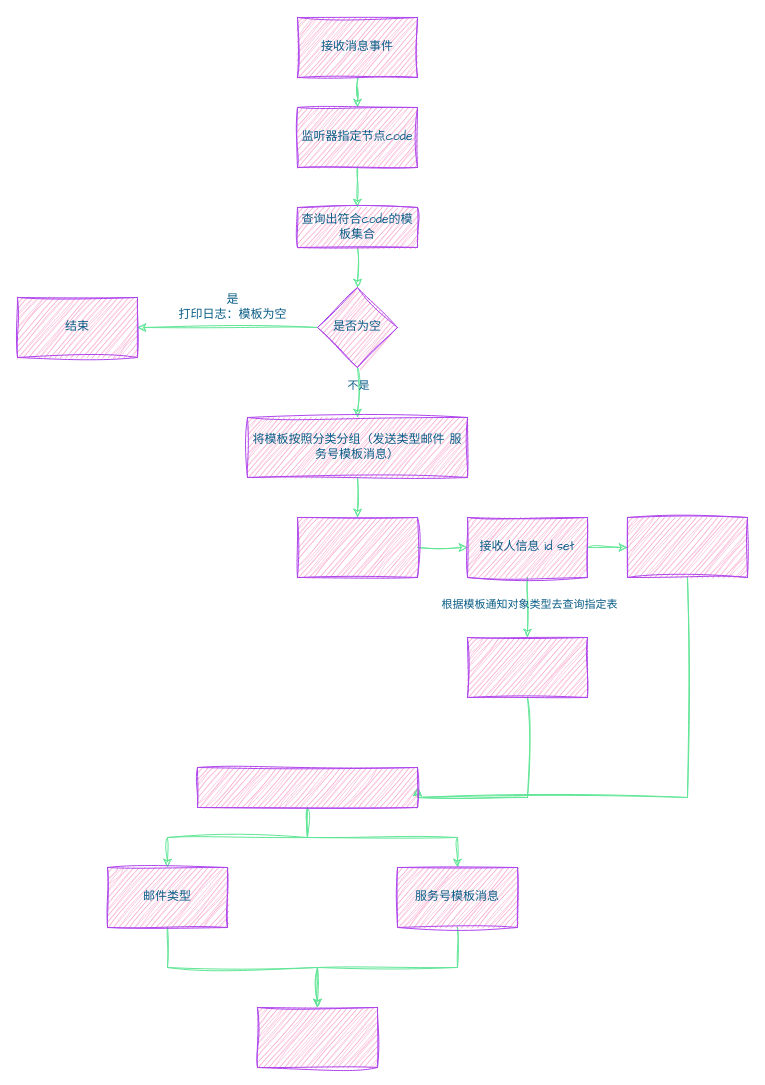
Image size: 765x1085. Some labels were removed from this diagram. The box of each missing label's shape, as (x1, y1, x2, y2) in pixels:
处理通用部分: (296, 516, 418, 578)
收集结果: (196, 766, 418, 808)
模板标题和模板内容解析: (626, 516, 748, 578)
获取 ReceiverInfoModel: (466, 636, 588, 698)
返回消息集合: (256, 1006, 378, 1068)
